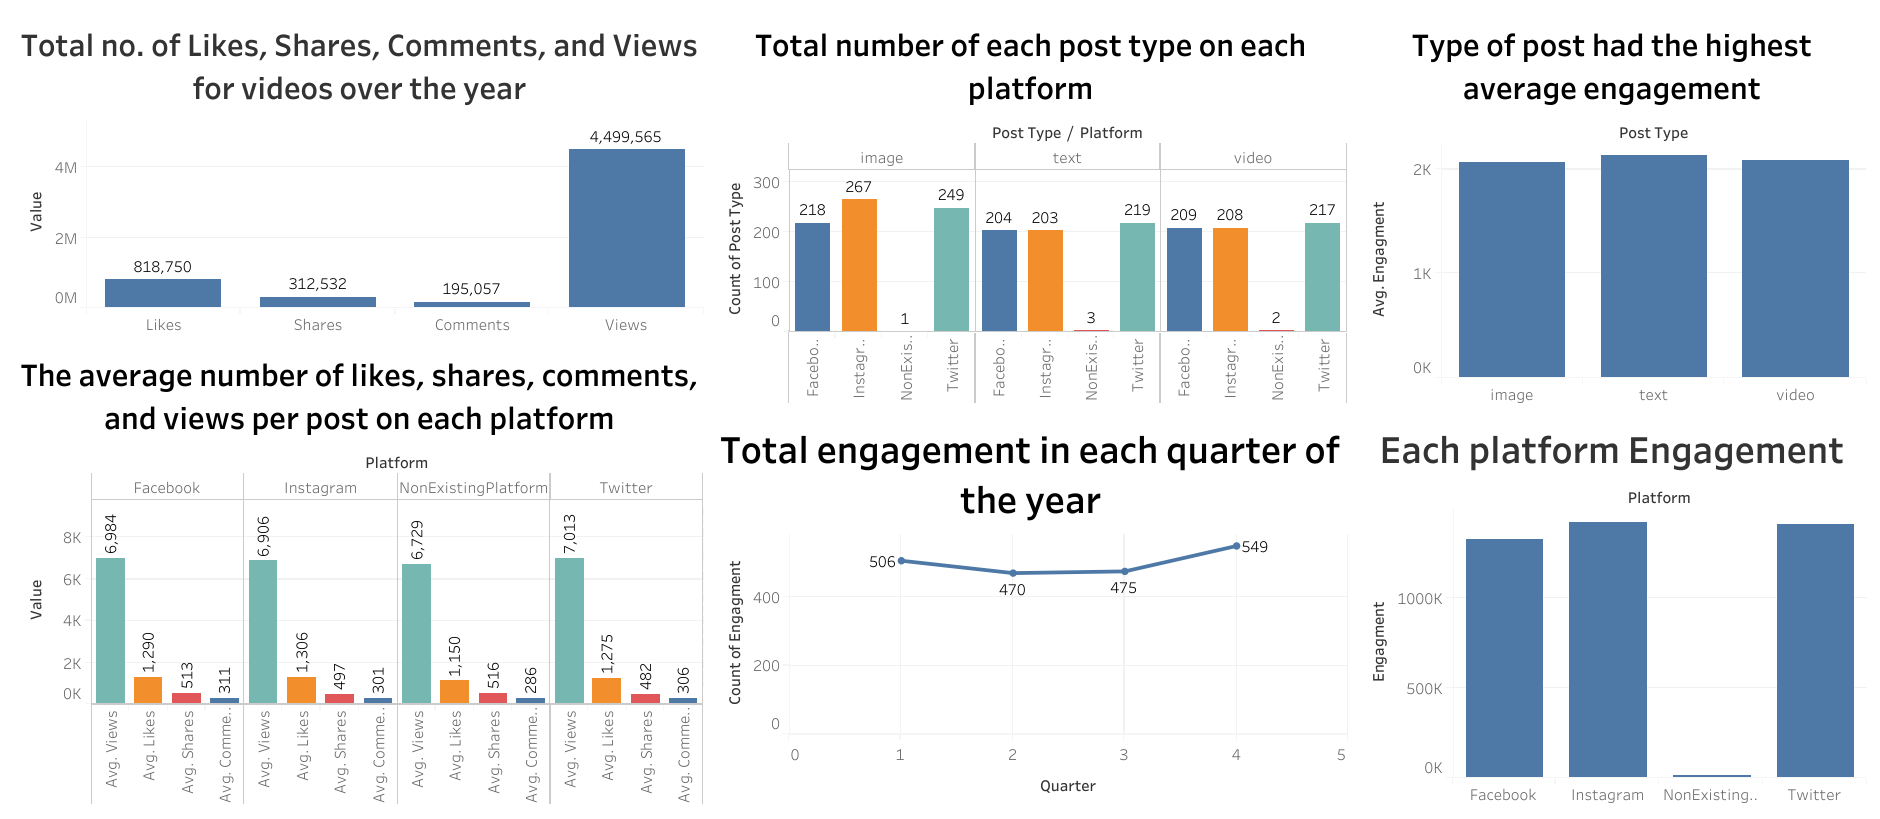

This screenshot's page, from the dashboard's own definition file:
{"tool":"tableau","page":{"name":"Dashboard 1","canvas":[1000,1000],"units":"permille","ordinal":0},"visuals":[{"type":"worksheet","title":"Sheet 1","mark":"Automatic","box":[4.8,9.3,371.8,405.3]},{"type":"worksheet","title":"Sheet 4","mark":"Automatic","rows":["post_type"],"cols":["post_type","platform"],"box":[376.6,9.3,342.8,490.7]},{"type":"worksheet","title":"Sheet 5","mark":"Automatic","rows":["engagment"],"cols":["post_type"],"box":[719.4,9.3,275.8,490.7]},{"type":"worksheet","title":"Sheet 3","mark":"Automatic","cols":["platform"],"box":[4.8,414.6,371.8,576.1]},{"type":"worksheet","title":"Sheet 6","mark":"Automatic","rows":["engagment"],"cols":["quarter"],"box":[376.6,500,342.8,490.7]},{"type":"worksheet","title":"Sheet 2","mark":"Automatic","rows":["engagment"],"cols":["platform"],"box":[719.4,500,275.8,490.7]}]}

Visuals, with their boxes on the dashboard's canvas, which has no fixed pixel size, in thousandths of its width and height (x1, y1, x2, y2). These are canvas units, not pixel positions in the 1880x819 screenshot, which may show the page scaled, cropped or inside an application window:
"Sheet 1" worksheet: region(5, 9, 377, 415)
"Sheet 4" worksheet: region(377, 9, 719, 500)
"Sheet 5" worksheet: region(719, 9, 995, 500)
"Sheet 3" worksheet: region(5, 415, 377, 991)
"Sheet 6" worksheet: region(377, 500, 719, 991)
"Sheet 2" worksheet: region(719, 500, 995, 991)
